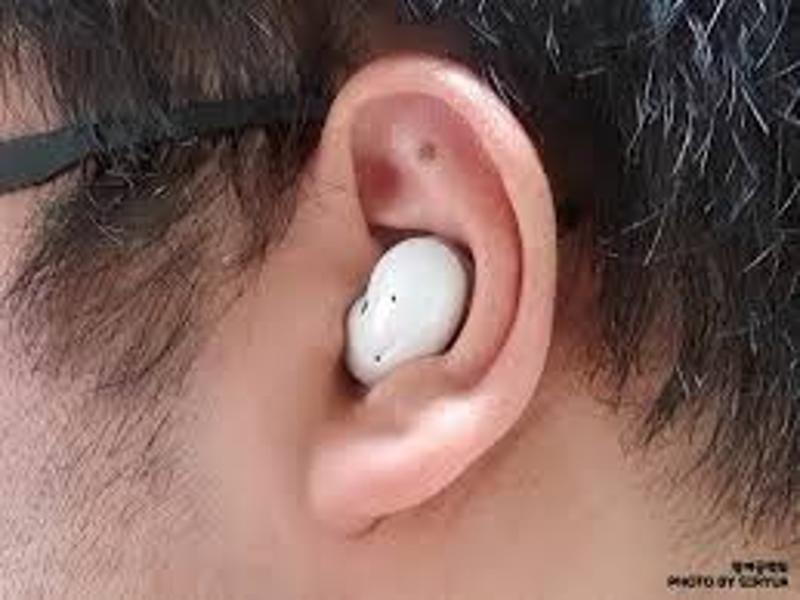headphone: (339, 230, 484, 389)
